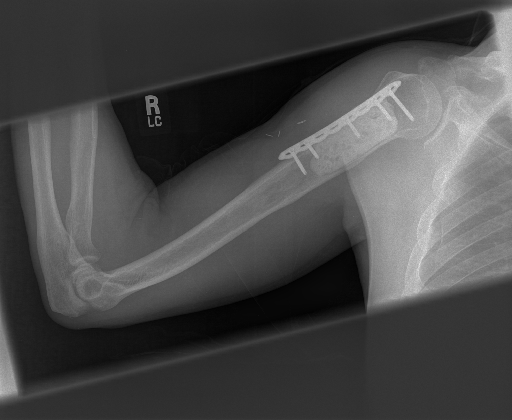implant: (278, 79, 417, 178)
